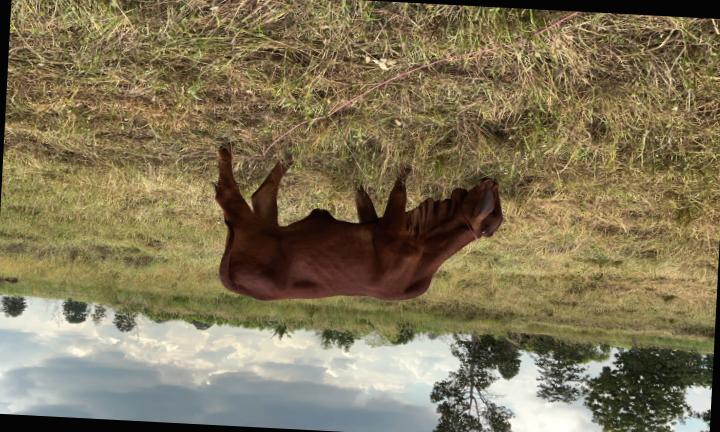Brahman: (215, 149, 502, 300)
